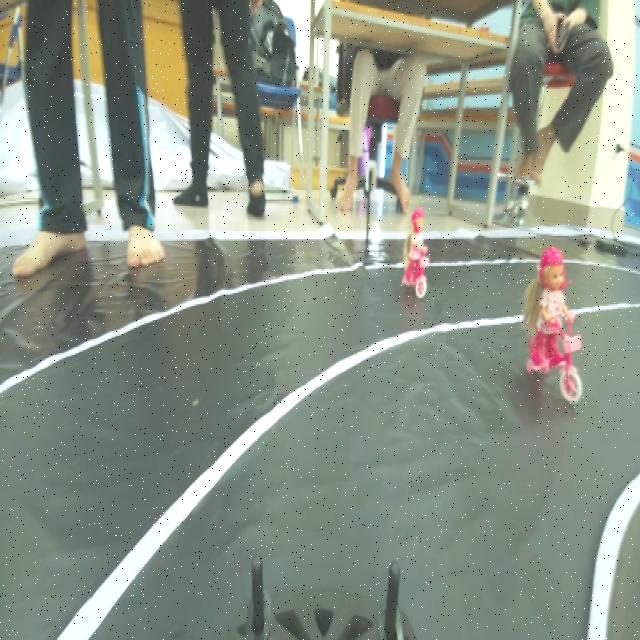pedestrian: (524, 240, 584, 405), (396, 204, 431, 301)
